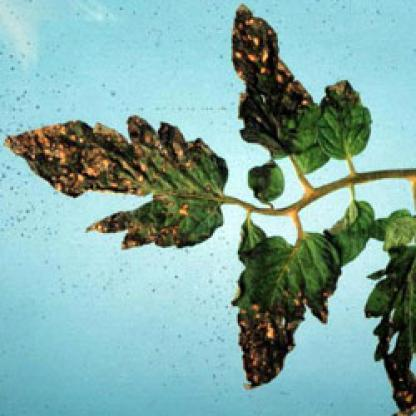tomato septoria leaf spot: (2, 100, 231, 271), (215, 3, 336, 183), (218, 218, 341, 389)
